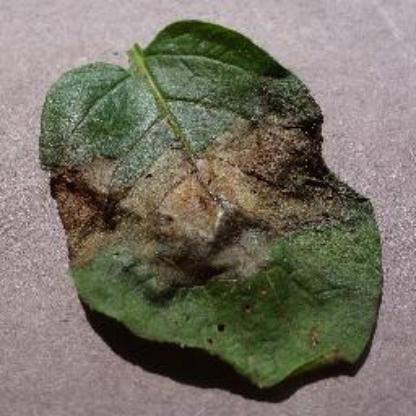Late-Blight: (12, 13, 400, 400)
